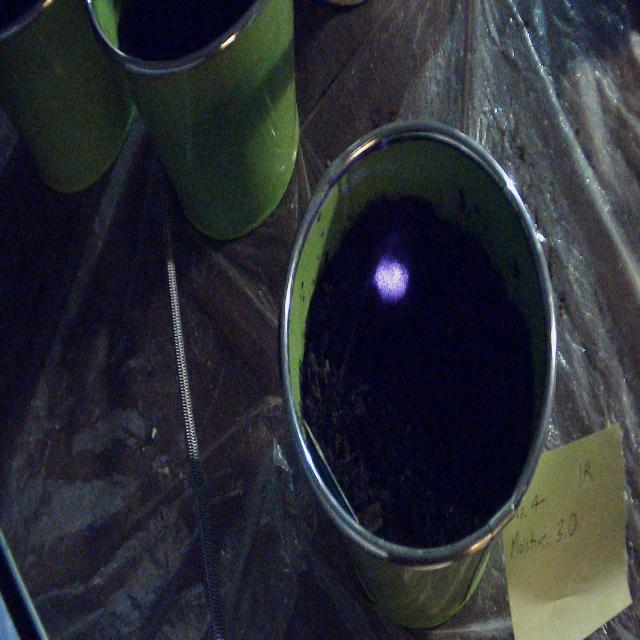soil-moisture-3.0: (374, 256, 408, 302)
